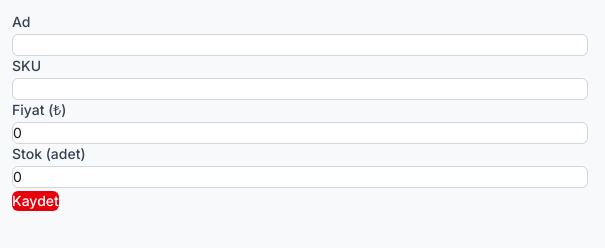
Scenario: ProductForm › boş ad submit edilirse hata gösterir
Click the button "Kaydet" at (35, 201), box [12, 191, 59, 211]
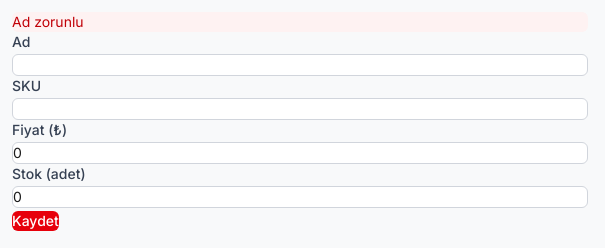
Check: the message reads "Ad zorunlu", box [12, 13, 84, 30]
